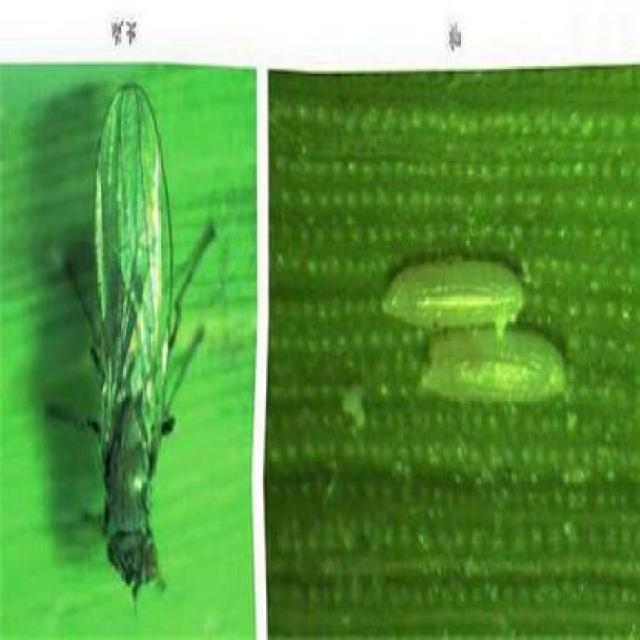whorl-maggot: (417, 326, 569, 422), (379, 258, 528, 333)
